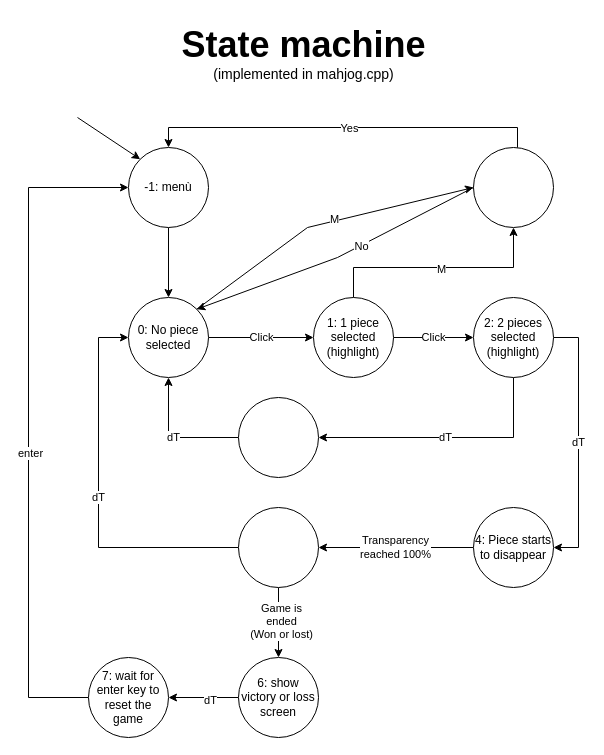
Image size: 604x755. Some labels were removed from this diagram. The centre of each missing label's shape, as x and y in pixels:
"3: Notify wrong choice (highlight both red?)" goes at (278,437).
"5: Transparency 100% reached + Word matrix" goes at (278,547).
"8: confirm withdraw from game" goes at (513,187).
